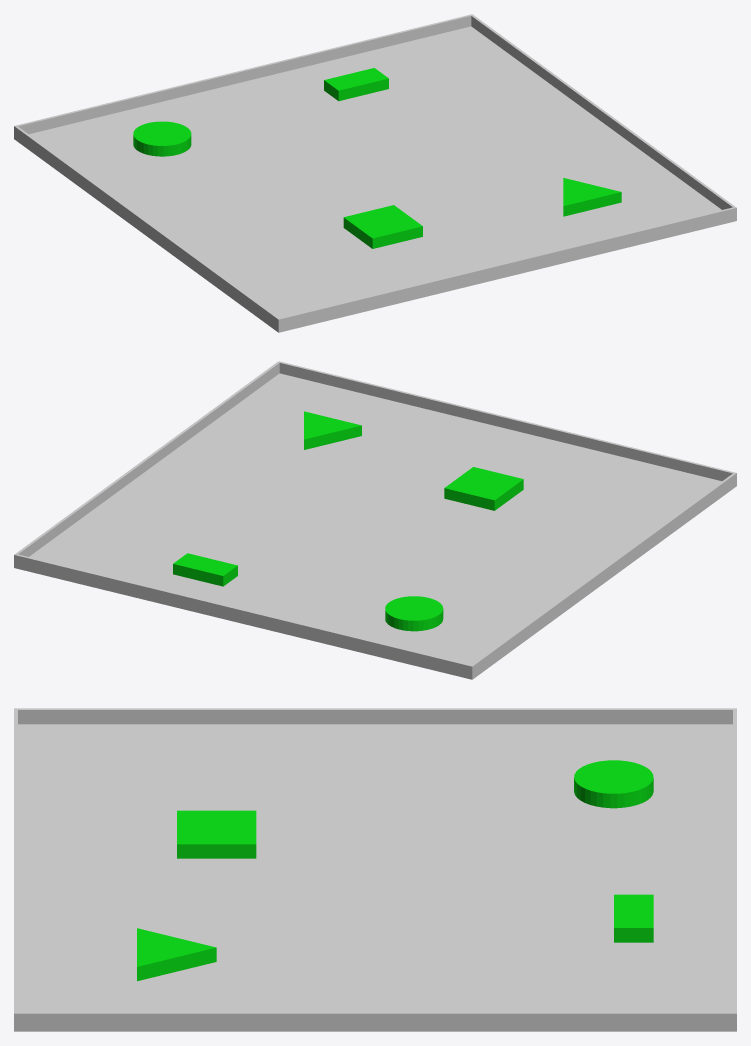
Rendered from yolo_nav_stage.dae.
The picture shows the model from 3 angles, top to bottom: view 1: azimuth 30°, elevation 25°; view 2: azimuth 150°, elevation 25°; view 3: azimuth 270°, elevation 25°; orthographic projection. The views are drawn at different scales.
Parts seen in each view (by area): view 1: Yolo Nav Stage V1; view 2: Yolo Nav Stage V1; view 3: Yolo Nav Stage V1.
Boxes of the visible parts, bbox=[...] form: Yolo Nav Stage V1: bbox=[14, 14, 736, 332]; Yolo Nav Stage V1: bbox=[14, 361, 736, 679]; Yolo Nav Stage V1: bbox=[14, 708, 736, 1031].
Size of the model in its own units: 18.2 by 18.2 by 0.5.
